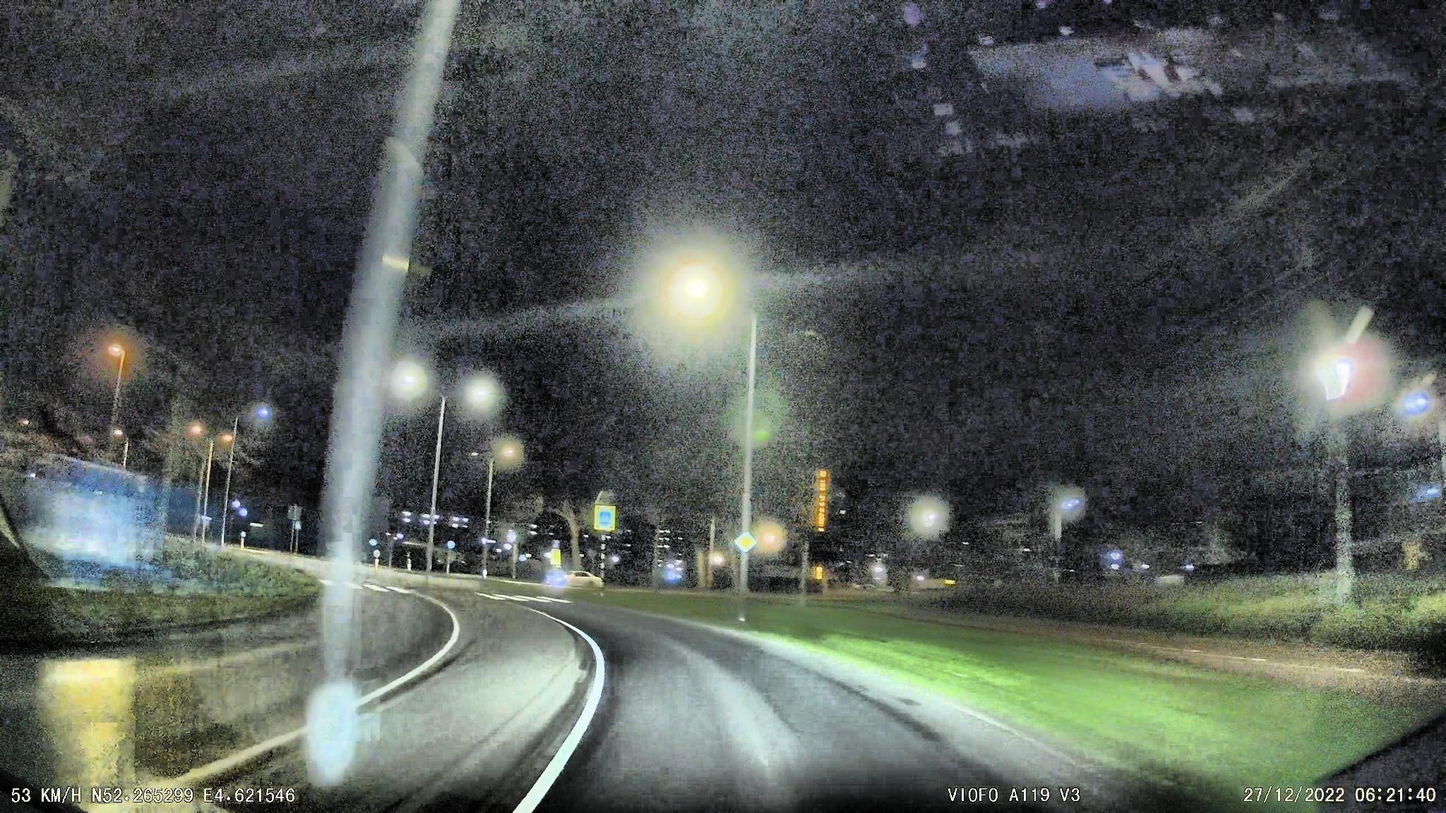Roads: (479, 594, 1180, 813)
